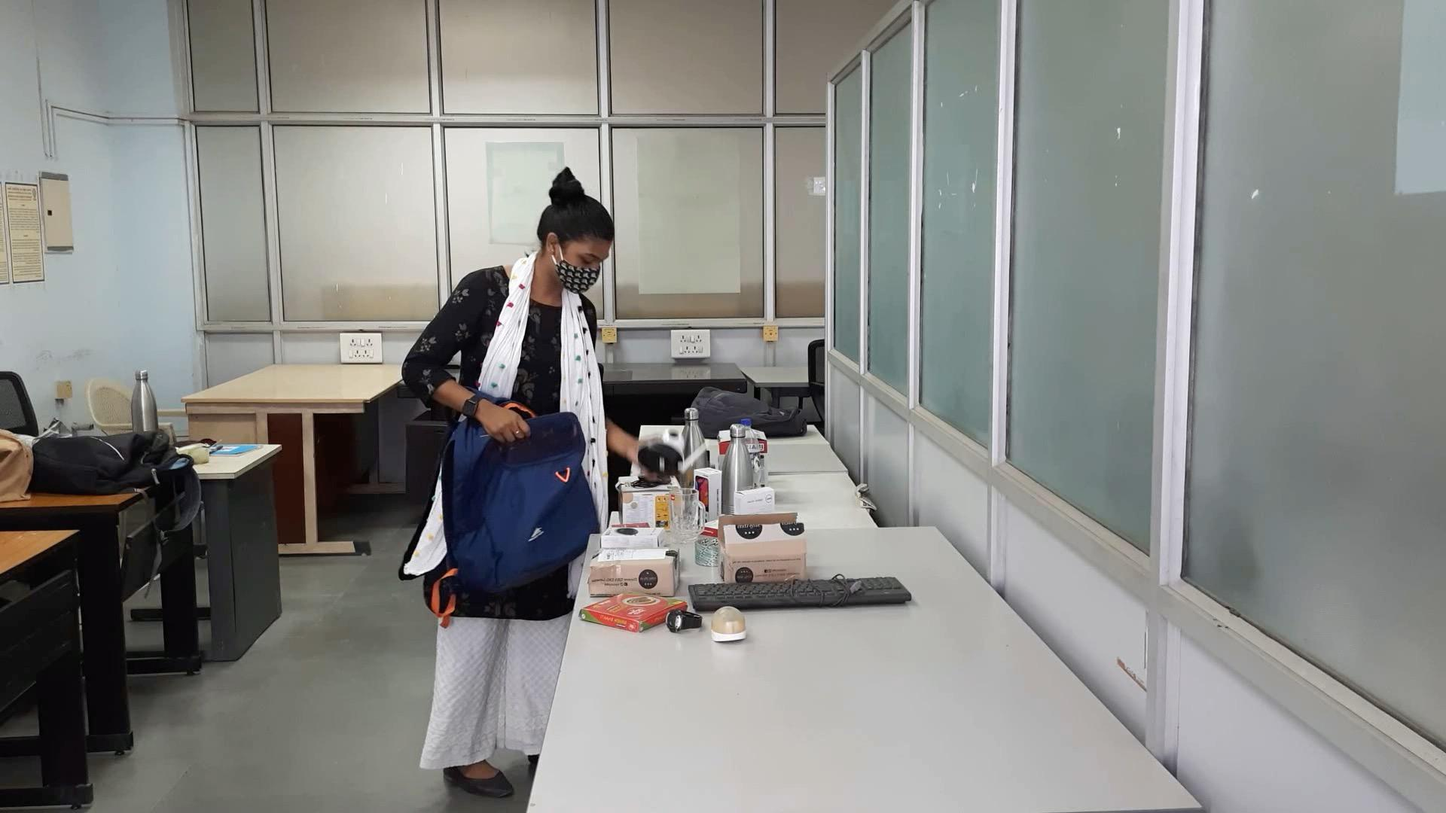shoplifting: (387, 328, 765, 647)
